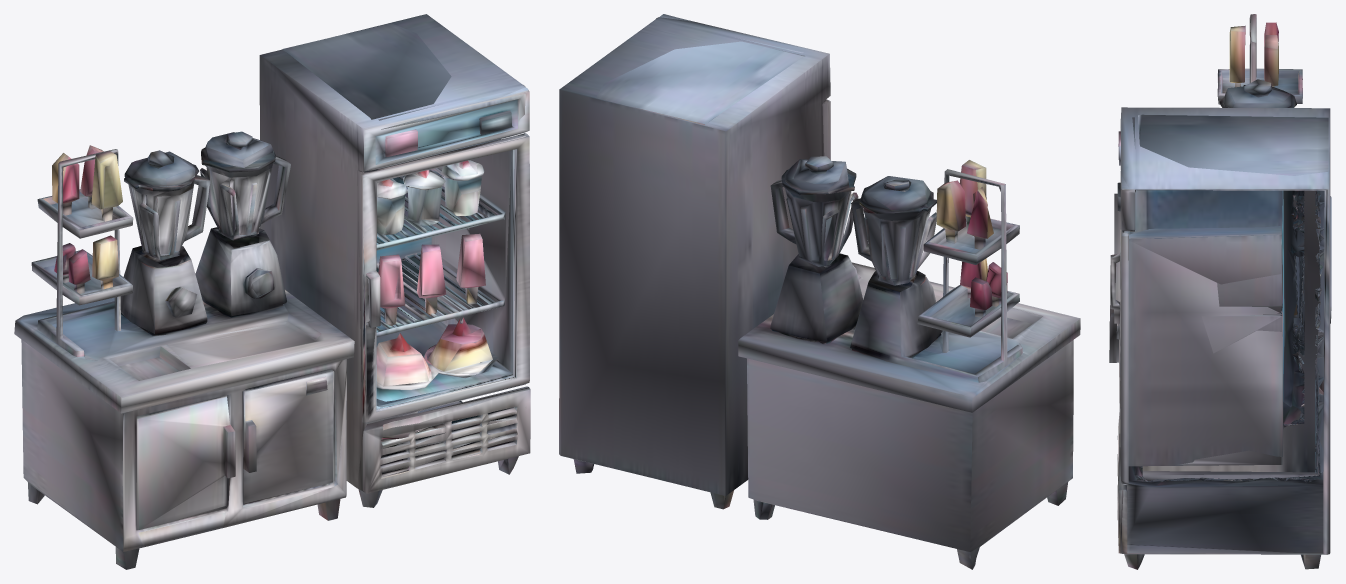
Rendered from tianpinji-3.glb.
The picture shows the model from 3 angles, left to right: view 1: azimuth 30°, elevation 25°; view 2: azimuth 150°, elevation 25°; view 3: azimuth 270°, elevation 25°; orthographic projection.
Visible parts, largest first — view 1: node_0; view 2: node_0; view 3: node_0.
Part boxes in pixels (x1,y1,x2,y2): node_0: (14, 14, 530, 569); node_0: (559, 14, 1080, 569); node_0: (1109, 14, 1331, 569).
Size of the model in its own units: 0.8503 by 0.7584 by 0.395.
1 material, 1 textured.
